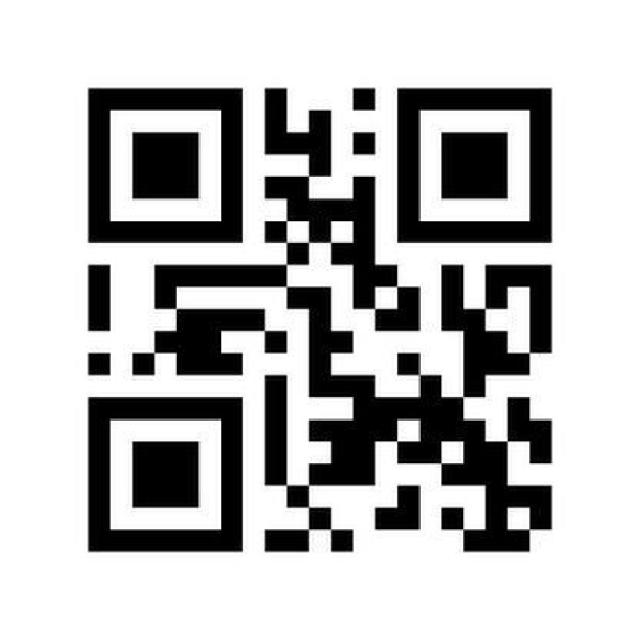QRCode: (71, 71, 565, 572)
